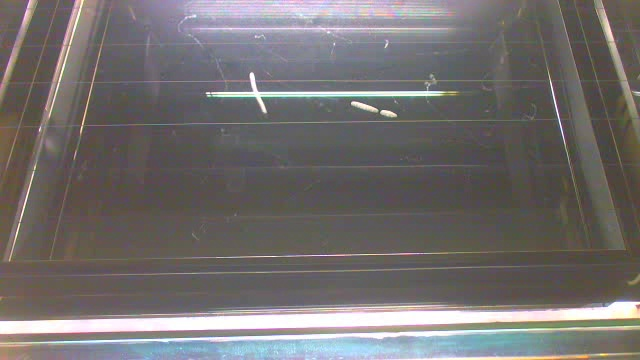Alfa: (349, 97, 398, 119), (247, 69, 267, 116)
